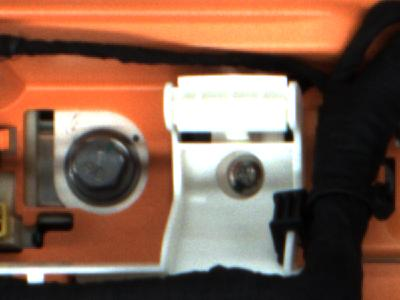nut_b: (58, 126, 145, 211)
